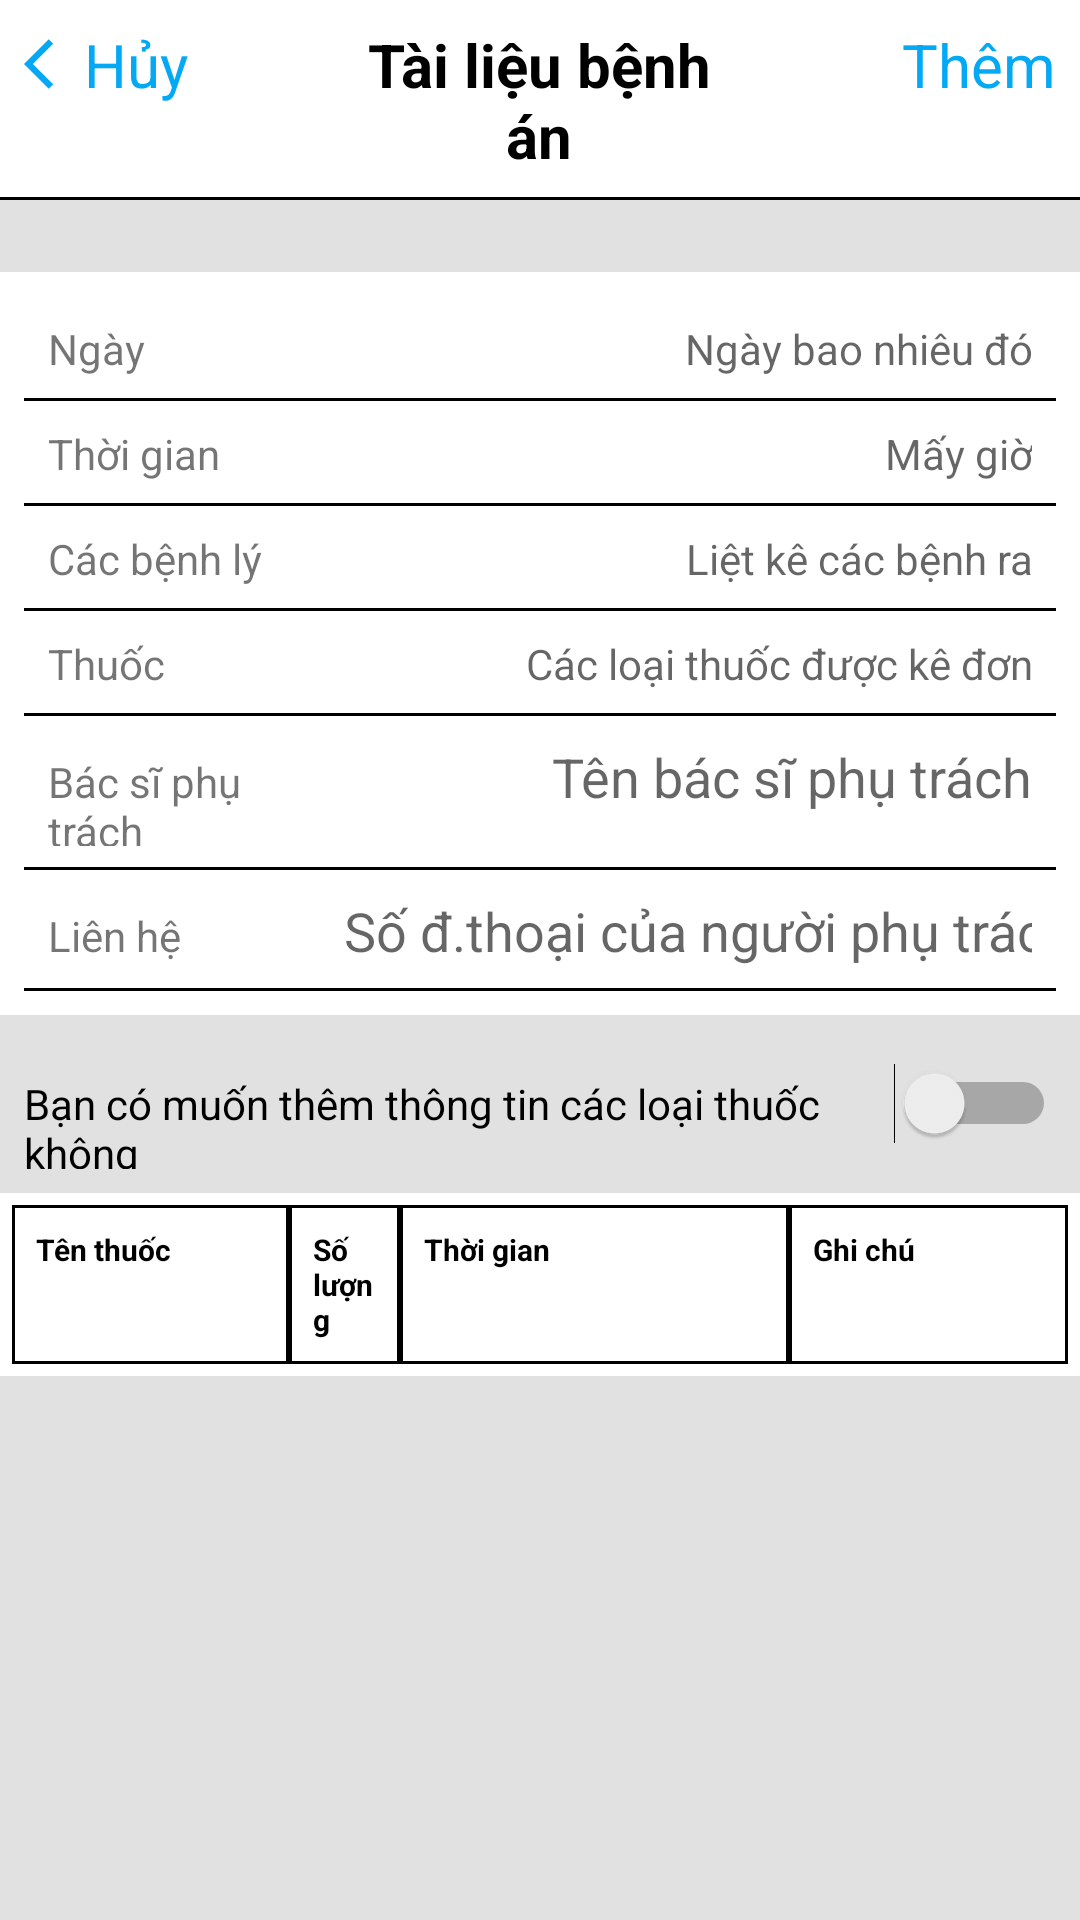

Icons on this 1080 x 1920 Android screen, each with the point to tap as point (x, y):
arrow back: point (38, 64)
